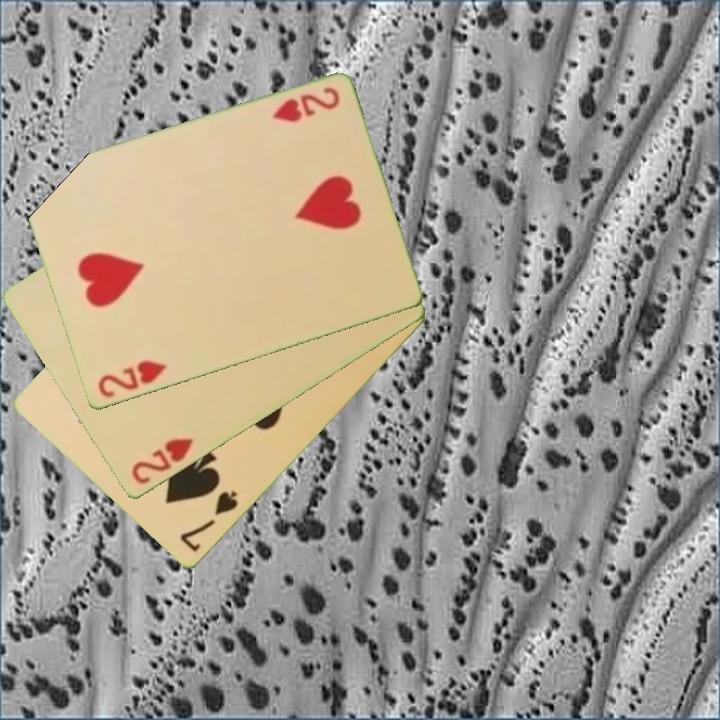2h: (127, 435, 197, 488), (94, 357, 170, 402), (269, 84, 343, 126)
7s: (176, 487, 241, 555)
